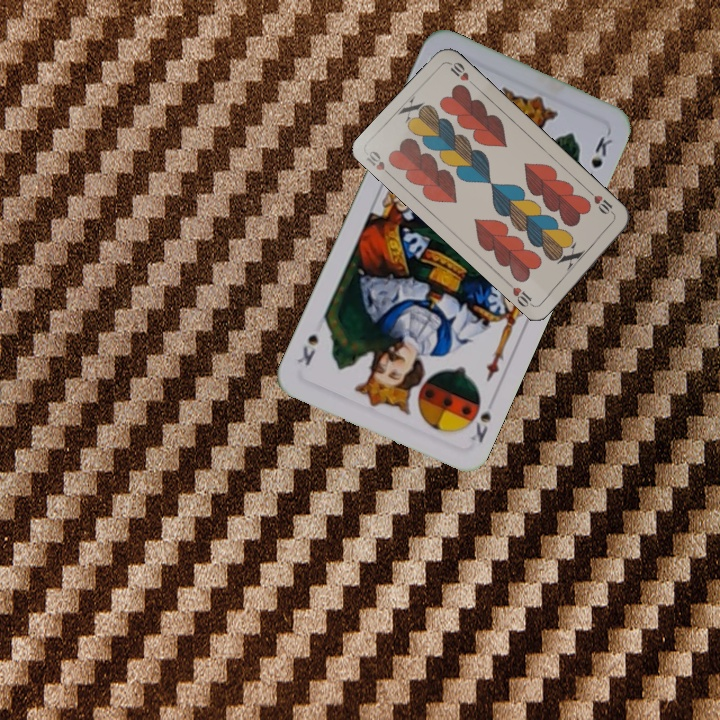H10: (362, 147, 396, 181), (585, 187, 618, 218)
SK: (466, 408, 494, 446)
